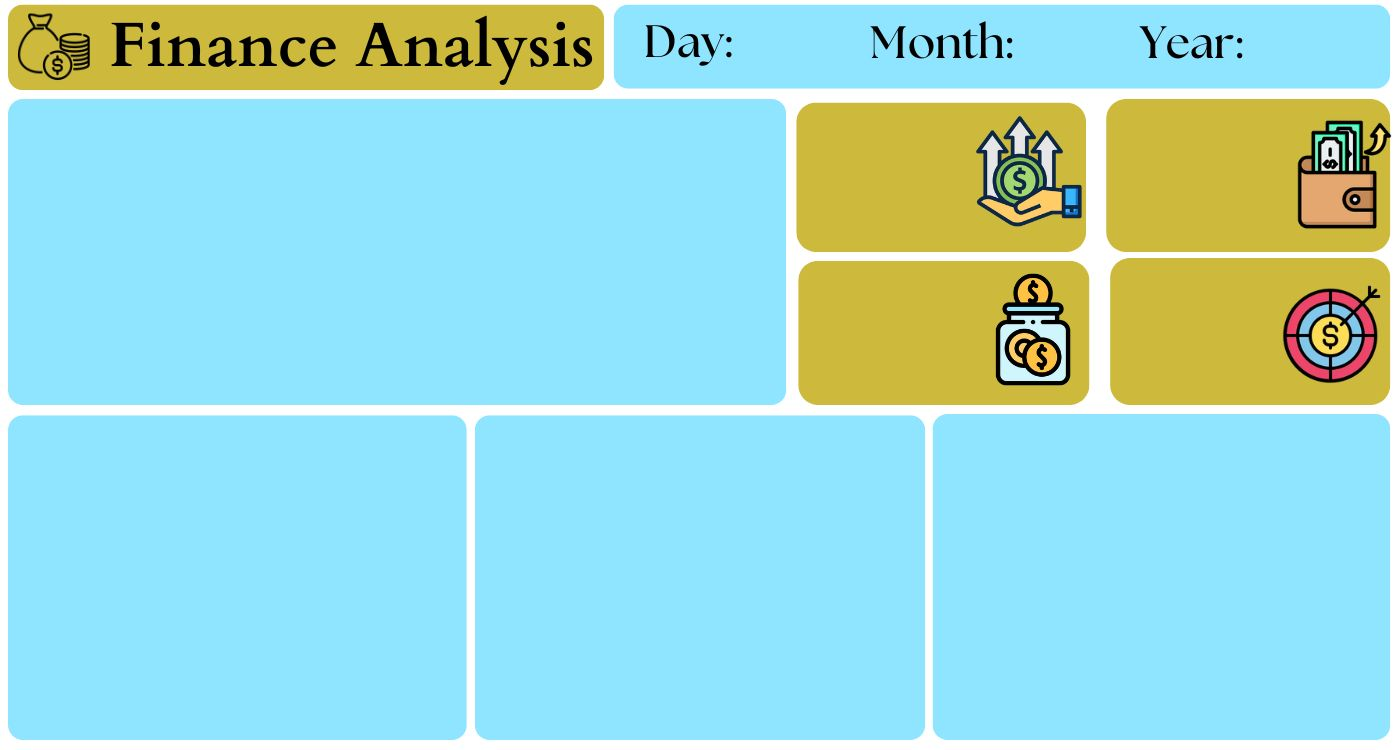

This screenshot's page, from the dashboard's own definition file:
{"tool":"powerbi","page":{"name":"Page 1","canvas":[1400,750],"ordinal":0},"visuals":[{"type":"cardVisual","fields":{"Data":["FinData.Income"]},"box":[855.7,234.5,284.1,147.2],"z":4},{"type":"card","fields":{"Values":["FinData.Expenses"]},"box":[1086.8,124.9,284.1,133.5],"z":7},{"type":"card","fields":{"Values":["FinData.Savings"]},"box":[1086.8,234.5,313.2,133.5],"z":8},{"type":"donutChart","fields":{"Y":["FinData.Savings"],"Category":["FinData.Component"]},"box":[462.1,407.3,475.8,342.3],"z":9},{"type":"donutChart","fields":{"Y":["FinData.Expenses"],"Category":["FinData.Component"]},"box":[0,407.3,513.4,342.3],"z":10},{"type":"pivotTable","fields":{"Values":["FinData.Total"],"Rows":["FinData.Type","FinData.Component"]},"box":[937.9,407.3,462.1,342.3],"z":13},{"type":"slicer","fields":{"Values":["FinData.YEAR.Variation.Date Hierarchy.Year"]},"box":[1187.8,1.7,169.4,59.9],"z":14},{"type":"lineChart","fields":{"Y":["FinData.Income","FinData.Savings","FinData.Expenses","FinData.Target"],"Category":["FinData.YEAR.Variation.Date Hierarchy.Year","FinData.YEAR.Variation.Date Hierarchy.Month","FinData.YEAR.Variation.Date Hierarchy.Day"]},"box":[0,61.6,838.6,345.7],"z":15},{"type":"textbox","box":[21.9,12.5,417.8,98.6],"z":18},{"type":"slicer","fields":{"Values":["FinData.YEAR.Variation.Date Hierarchy.Day"]},"box":[735.9,0,169.4,80.4],"z":20},{"type":"slicer","fields":{"Values":["FinData.YEAR.Variation.Date Hierarchy.Month"]},"box":[937.9,0,174.6,61.6],"z":21},{"type":"card","fields":{"Values":["FinData.Target"]},"box":[855.7,97.6,284.1,136.9],"z":22}]}

Visuals, with their boxes in screenshot pixels (x1, y1, x2, y2), scaled from the page's 1400x750 canvas onto the 1400x750 screenshot:
cardVisual - FinData.Income: BBox(856, 234, 1140, 382)
card - FinData.Expenses: BBox(1087, 125, 1371, 258)
card - FinData.Savings: BBox(1087, 234, 1399, 368)
donutChart - FinData.Savings x FinData.Component: BBox(462, 407, 938, 749)
donutChart - FinData.Expenses x FinData.Component: BBox(0, 407, 513, 749)
pivotTable - FinData.Total x FinData.Type: BBox(938, 407, 1399, 749)
slicer - FinData.YEAR.Variation.Date Hierarchy.Year: BBox(1188, 2, 1357, 62)
lineChart - FinData.Income x FinData.Savings: BBox(0, 62, 839, 407)
textbox: BBox(22, 12, 440, 111)
slicer - FinData.YEAR.Variation.Date Hierarchy.Day: BBox(736, 0, 905, 80)
slicer - FinData.YEAR.Variation.Date Hierarchy.Month: BBox(938, 0, 1112, 62)
card - FinData.Target: BBox(856, 98, 1140, 234)
